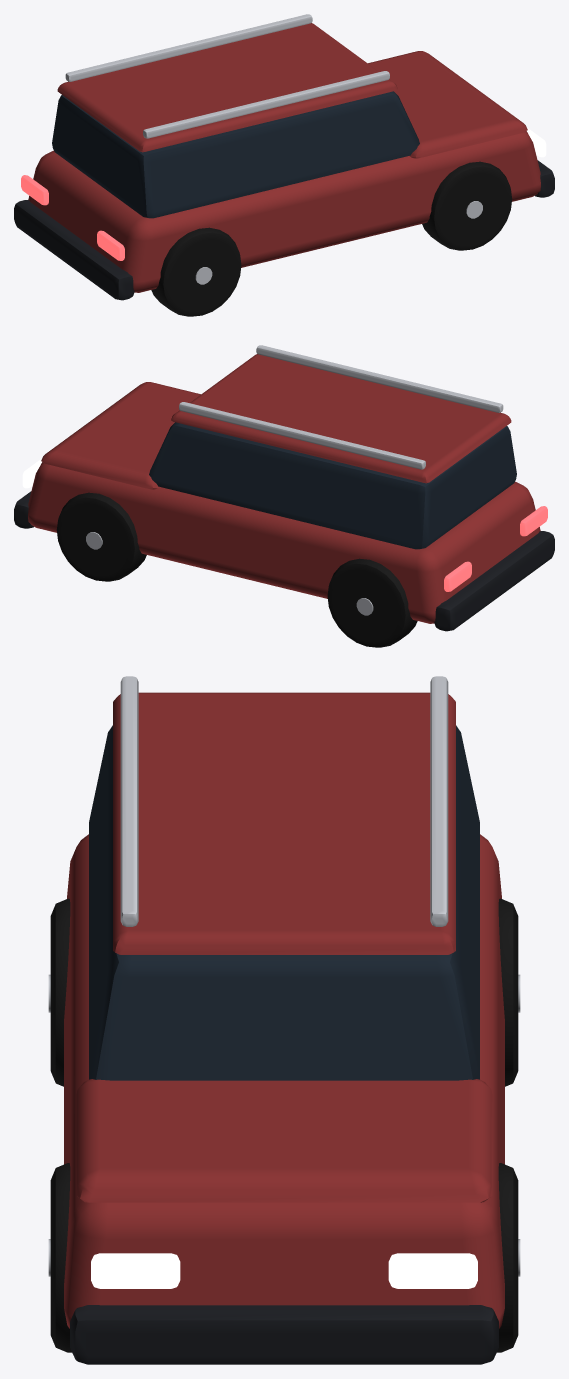
Rendered from wagon.glb.
The picture shows the model from 3 angles, top to bottom: view 1: azimuth 30°, elevation 25°; view 2: azimuth 150°, elevation 25°; view 3: azimuth 270°, elevation 25°; orthographic projection. The views are drawn at different scales.
Visible parts, largest first — view 1: part-paint, part-glass, wheel-+10--1-tyre, wheel--11--1-tyre, part-chrome, part-trim, part-taillight; view 2: part-paint, part-glass, wheel-+10-1-tyre, wheel--11-1-tyre, part-chrome, part-trim, part-taillight; view 3: part-paint, part-glass, part-trim, part-chrome, wheel-+10-1-tyre, wheel-+10--1-tyre, headlight-1, headlight--1, wheel--11-1-tyre, wheel--11--1-tyre.
Part boxes in pixels (x1,y1,x2,y2): part-paint: (28, 23, 540, 292); part-glass: (52, 91, 419, 218); wheel-+10--1-tyre: (422, 161, 512, 250); wheel--11--1-tyre: (151, 227, 241, 316); part-chrome: (65, 14, 389, 138); part-trim: (14, 160, 554, 300); part-taillight: (21, 175, 124, 260); part-paint: (28, 354, 540, 623); part-glass: (149, 422, 516, 549); wheel-+10-1-tyre: (56, 492, 146, 581); wheel--11-1-tyre: (327, 558, 417, 647); part-chrome: (179, 345, 503, 469); part-trim: (14, 491, 554, 631); part-taillight: (444, 506, 547, 591); part-paint: (64, 692, 504, 1328); part-glass: (89, 725, 479, 1080); part-trim: (70, 1305, 498, 1364); part-chrome: (120, 676, 448, 926); wheel-+10-1-tyre: (497, 1163, 518, 1352); wheel-+10--1-tyre: (50, 1163, 71, 1352); headlight-1: (388, 1253, 477, 1288); headlight--1: (91, 1253, 180, 1288); wheel--11-1-tyre: (498, 898, 518, 1086); wheel--11--1-tyre: (50, 898, 70, 1086).
Bounding box in the file's own units: 34.2 × 13.6 × 15.85.
